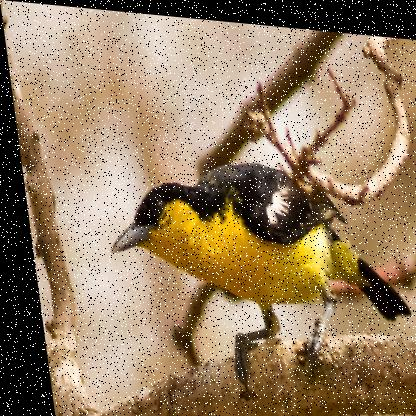Burung: (92, 147, 414, 405)
